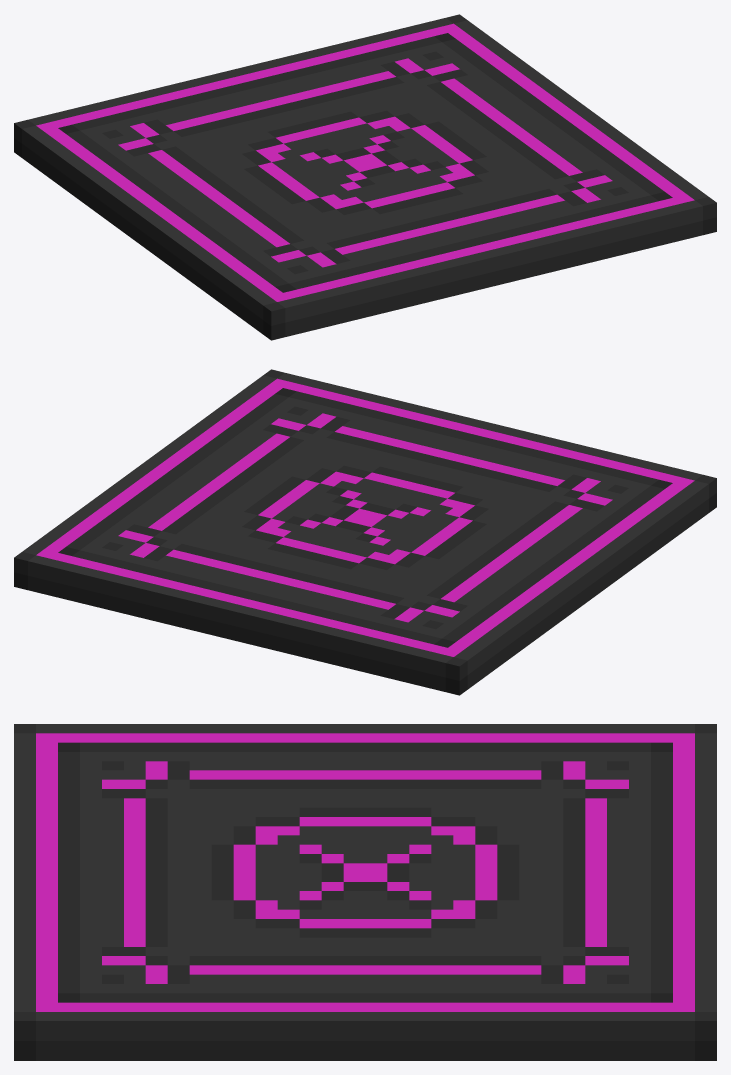
Rendered from tilefinish.obj.
3 renders of one model, top to bottom at view 1: azimuth 30°, elevation 25°; view 2: azimuth 150°, elevation 25°; view 3: azimuth 270°, elevation 25°, orthographic. The views are drawn at different scales.
Visible parts, largest first — view 1: tilefinish; view 2: tilefinish; view 3: tilefinish.
Part boxes in pixels (x1,y1,x2,y2): tilefinish: (14,14,716,340); tilefinish: (14,369,716,695); tilefinish: (14,724,716,1060).
Bounding box in the file's own units: 32 × 2 × 32.
1 material, 1 textured.
